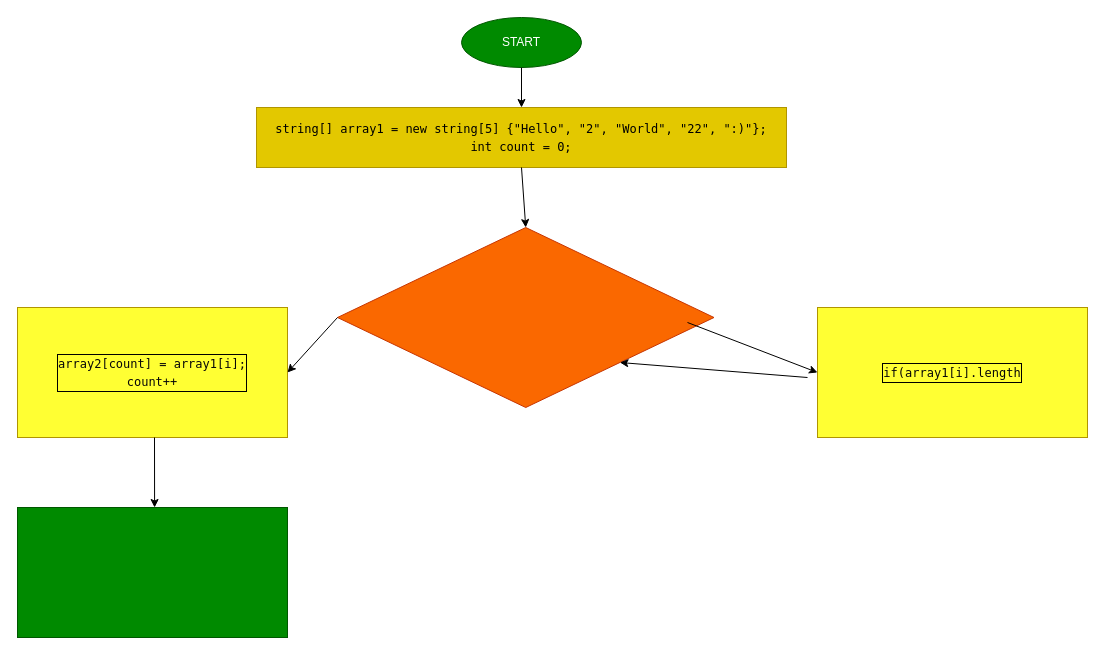
The diagram is 1105 pixels wide and 655 high, and some of its shapes have lost their labels. The centre of each missing label's shape, as x and y in pixels:
for(int i = 0; i < array1.lenght; i++): the point at 525,317
PrintArray1: the point at 152,572
